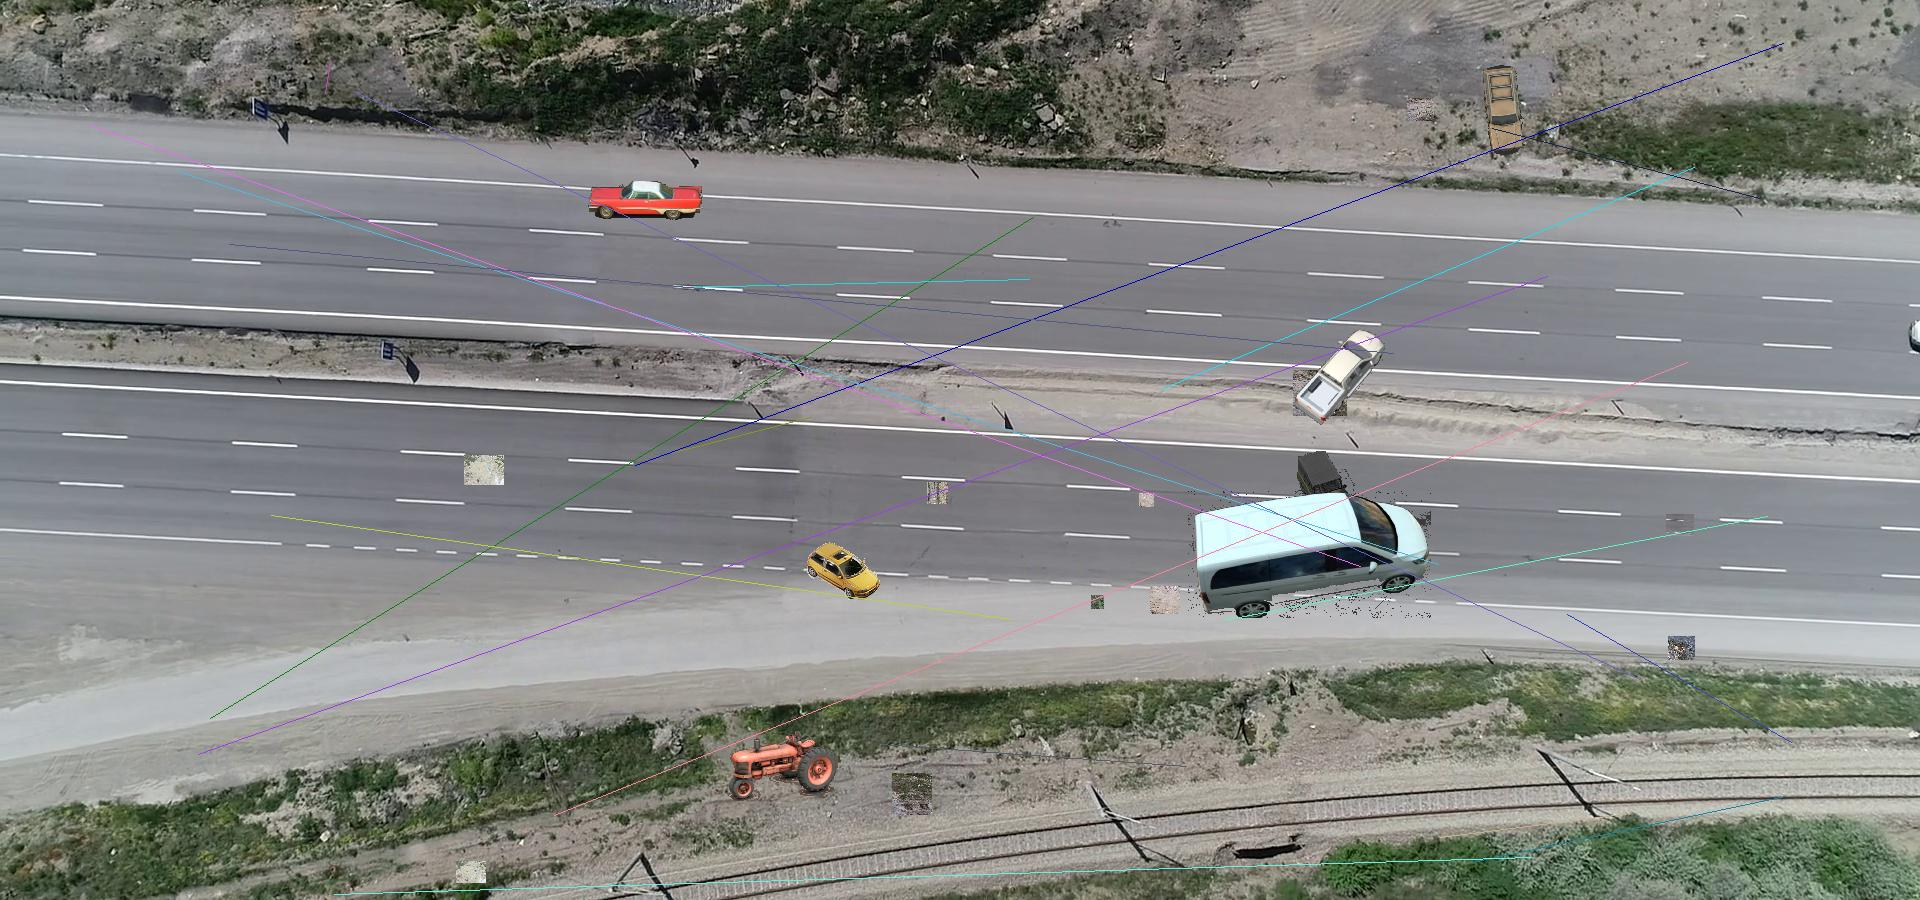arac: (1188, 491, 1431, 618), (1291, 327, 1390, 429), (729, 731, 838, 801), (587, 181, 707, 220), (1296, 451, 1356, 524), (807, 541, 880, 601), (1479, 65, 1526, 156)
